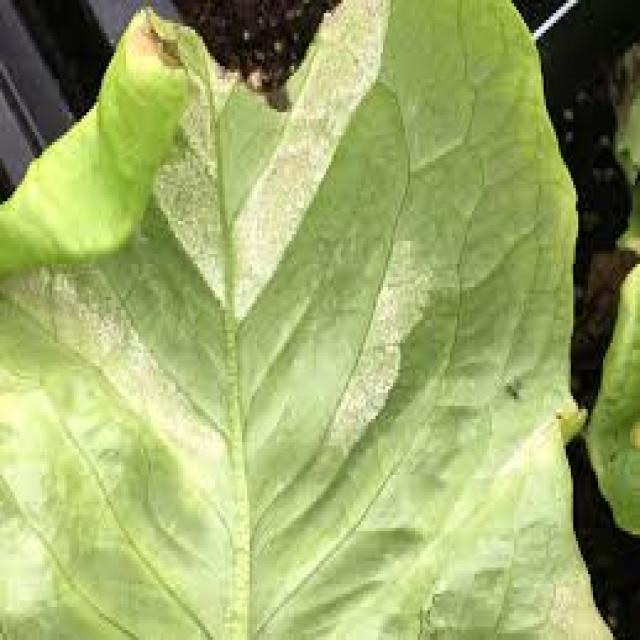Sick Lettuce: (0, 0, 608, 633), (0, 3, 198, 274)
